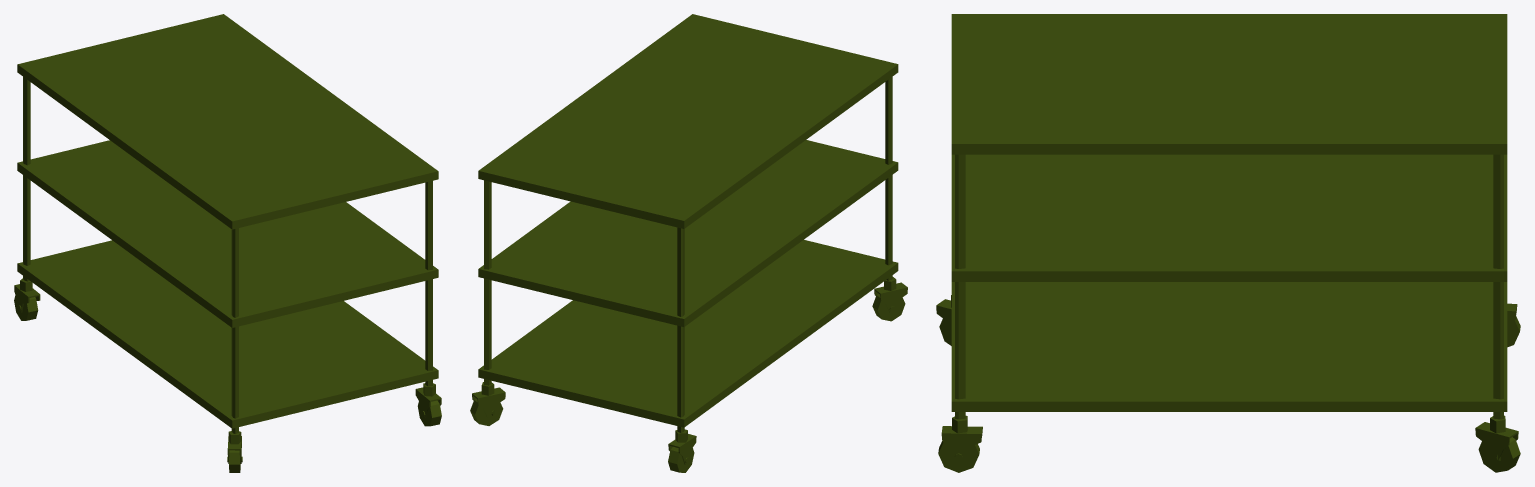
File: Table01_M.fbx
The picture shows the model from 3 angles, left to right: view 1: azimuth 30°, elevation 25°; view 2: azimuth 150°, elevation 25°; view 3: azimuth 270°, elevation 25°; orthographic projection. The views are drawn at different scales.
Parts seen in each view (by area): view 1: Table01, Table01_Wheels; view 2: Table01, Table01_Wheels; view 3: Table01, Table01_Wheels.
Boxes of the visible parts, x1,y1,x2,y2 form: Table01: (17, 14, 438, 433); Table01_Wheels: (14, 278, 441, 472); Table01: (478, 14, 898, 432); Table01_Wheels: (470, 277, 907, 472); Table01: (951, 14, 1507, 419); Table01_Wheels: (936, 295, 1520, 472).
Bounding box in the file's own units: 0.3189 × 0.354 × 0.569.
